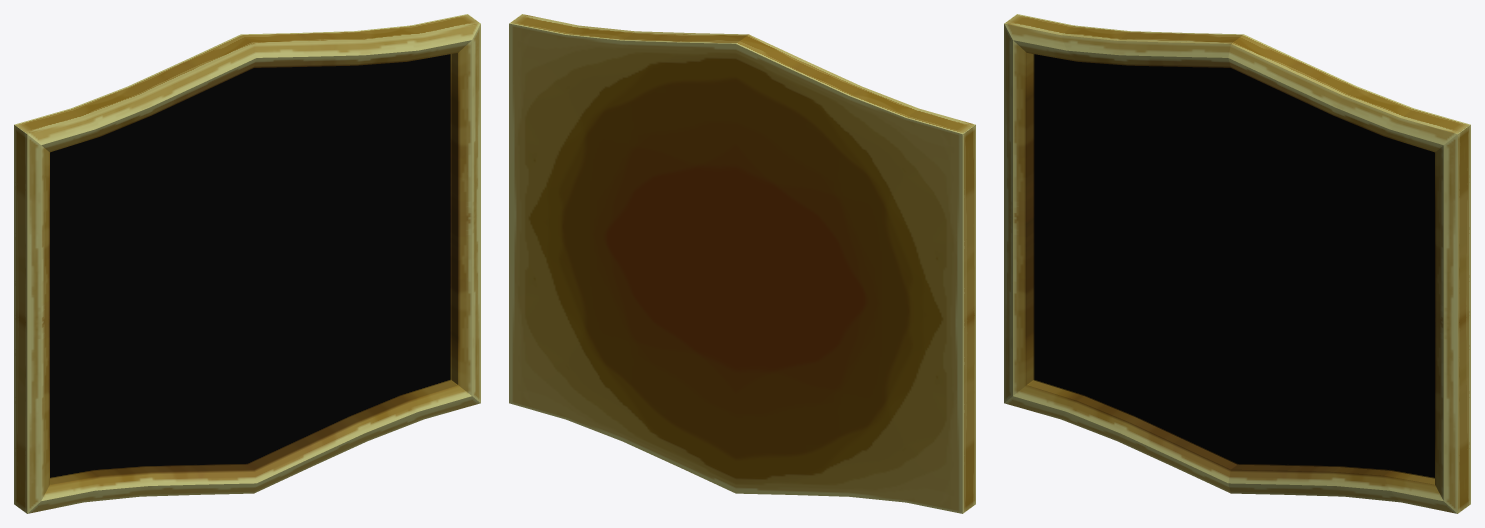
File: frame_ornate.fbx
3 views of the same model, side by side, from view 1: azimuth 30°, elevation 25°; view 2: azimuth 150°, elevation 25°; view 3: azimuth 330°, elevation 25° (orthographic).
Visible parts, largest first — view 1: Frame2; view 2: Frame2; view 3: Frame2.
Boxes of the visible parts, x1,y1,x2,y2 form: Frame2: [14, 14, 480, 513]; Frame2: [509, 14, 975, 513]; Frame2: [1004, 14, 1470, 513].
Bounding box in the file's own units: 100 × 94.74 × 6.
1 material, 1 textured.
